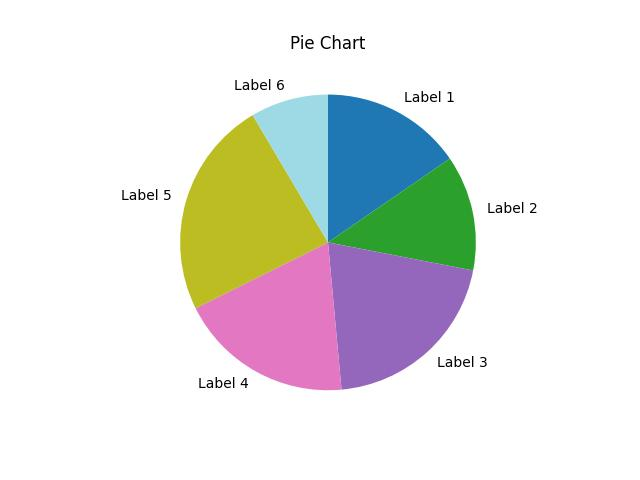sector: (180, 117, 331, 309), (194, 243, 343, 391), (328, 243, 474, 389), (328, 92, 449, 242), (329, 156, 475, 271), (256, 93, 329, 243)
